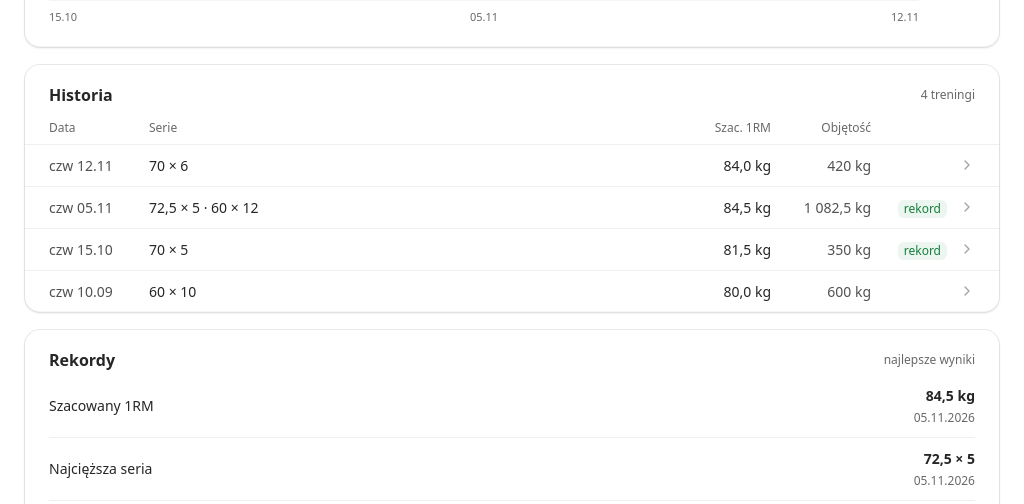
ExerciseDetail › historia malejąco, rekordy zaznaczone, wiersz rozwija się do tabeli serii z linkiem
The image size is (1024, 504).
(page scrolled)
Expected: the button "czw 12.11 70 × 6 84,0 kg 420 kg" is shown, x1=25 y1=144 x2=999 y2=186
Expected: the button "czw 12.11 70 × 6 84,0 kg 420 kg" does not show "rekord", x1=25 y1=144 x2=999 y2=186
Step 1. Click the button "czw 05.11 72,5 × 5 · 60 × 12 84,5 kg 1 082,5 kg rekord" → (81, 207), box x1=25 y1=186 x2=999 y2=228
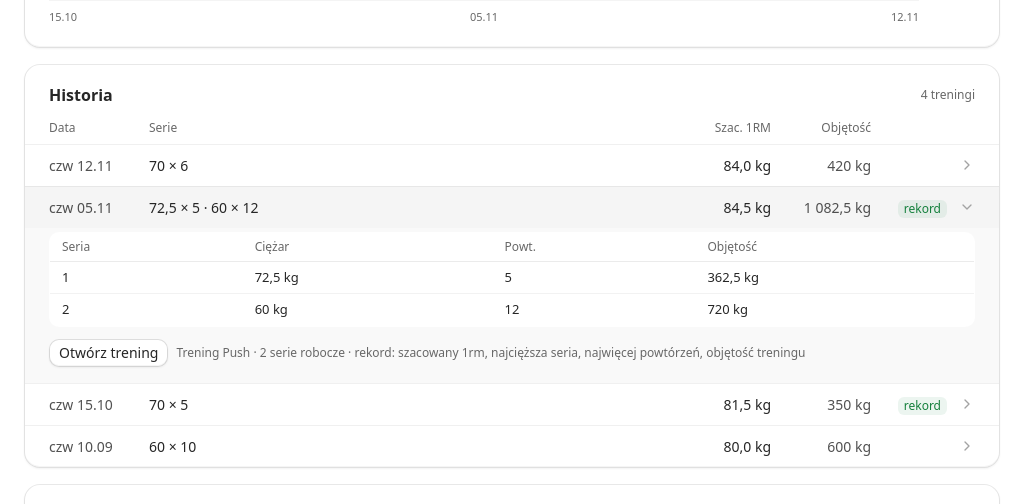
Now the text "72,5 kg" is shown, box x1=243 y1=261 x2=493 y2=294
Step 2. Click the button "czw 05.11 72,5 × 5 · 60 × 12 84,5 kg 1 082,5 kg rekord" → (81, 207), box x1=25 y1=186 x2=999 y2=228
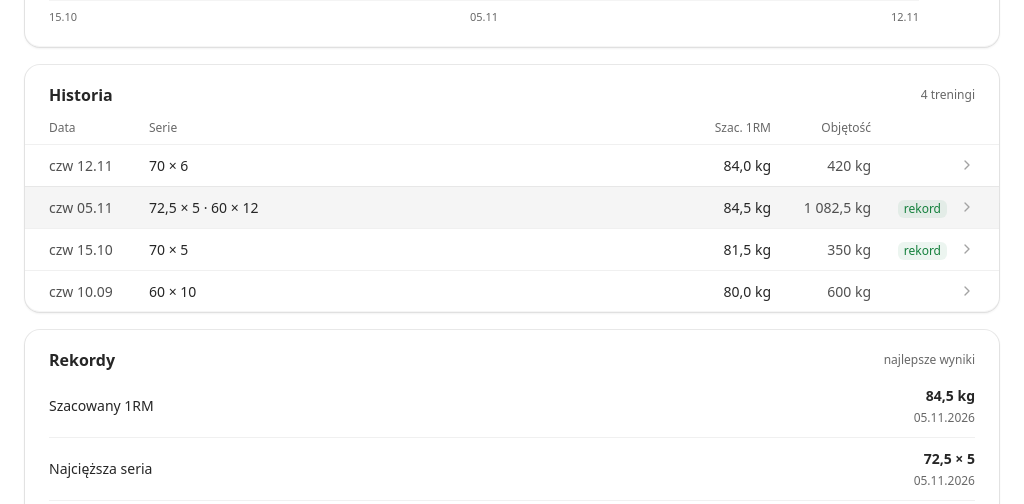
Now the table is gone
